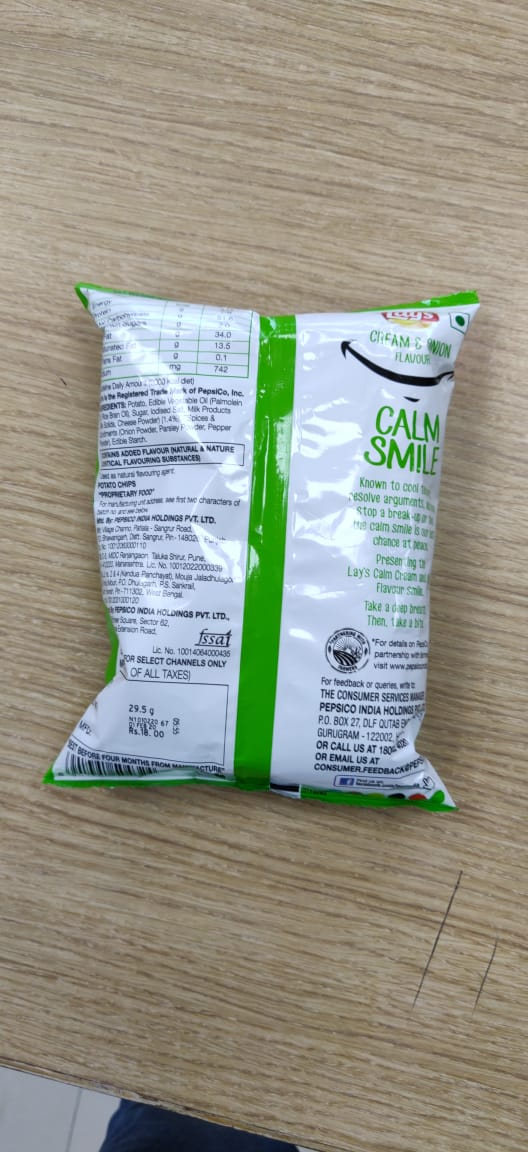lays chips: (55, 237, 494, 835)
